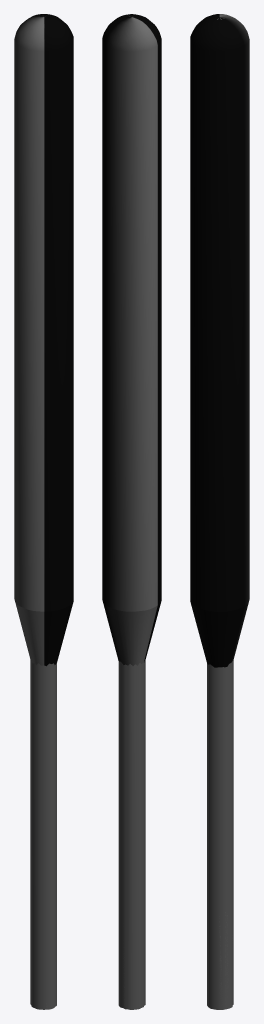
The model's file is sparkler.glb.
3 renders of one model, left to right at view 1: azimuth 90°, elevation 25°; view 2: azimuth 150°, elevation 25°; view 3: azimuth 270°, elevation 25°, orthographic.
Visible parts, largest first — view 1: sparkler; view 2: sparkler; view 3: sparkler.
Boxes of the visible parts, box(x1,y1,x2,y2) form: sparkler: box(14, 14, 73, 1009); sparkler: box(102, 14, 161, 1009); sparkler: box(190, 14, 249, 1009).
Size of the model in its own units: 0.0195 by 0.3595 by 0.0195.
2 materials, 1 textured.
